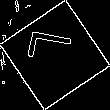L_E: (27, 35, 83, 75)
